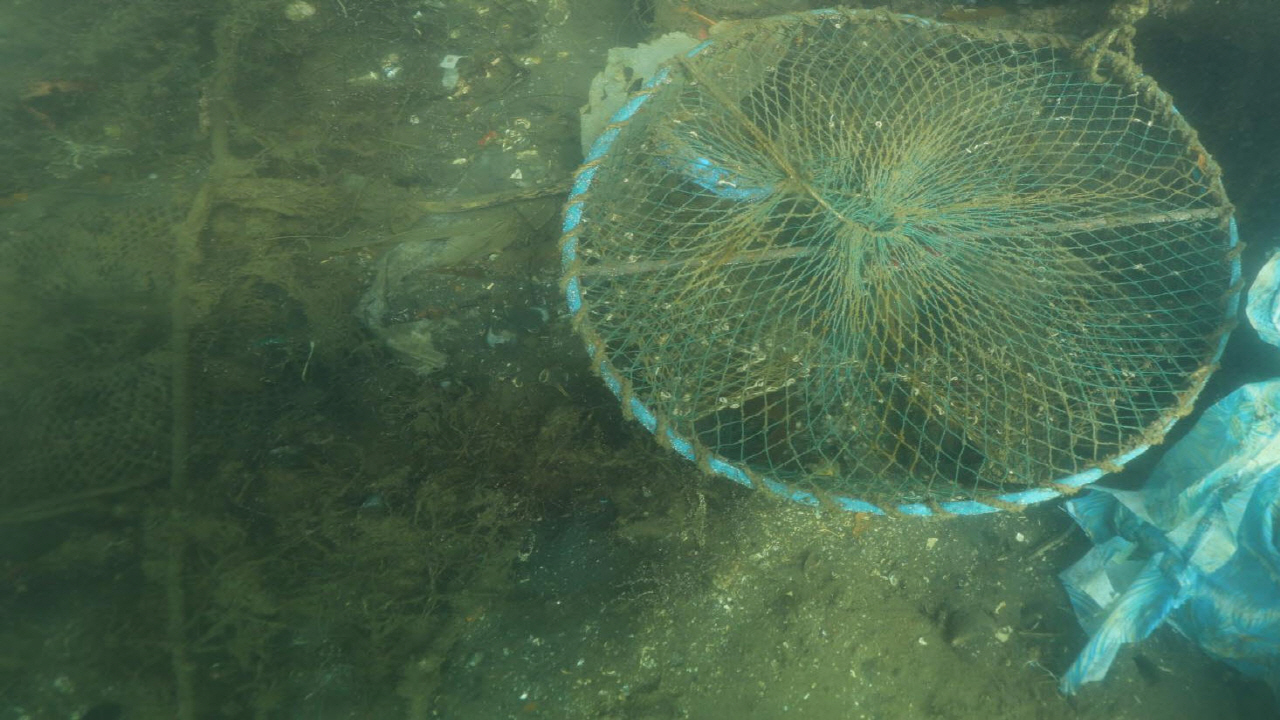circular fish trap: (560, 5, 1244, 519)
